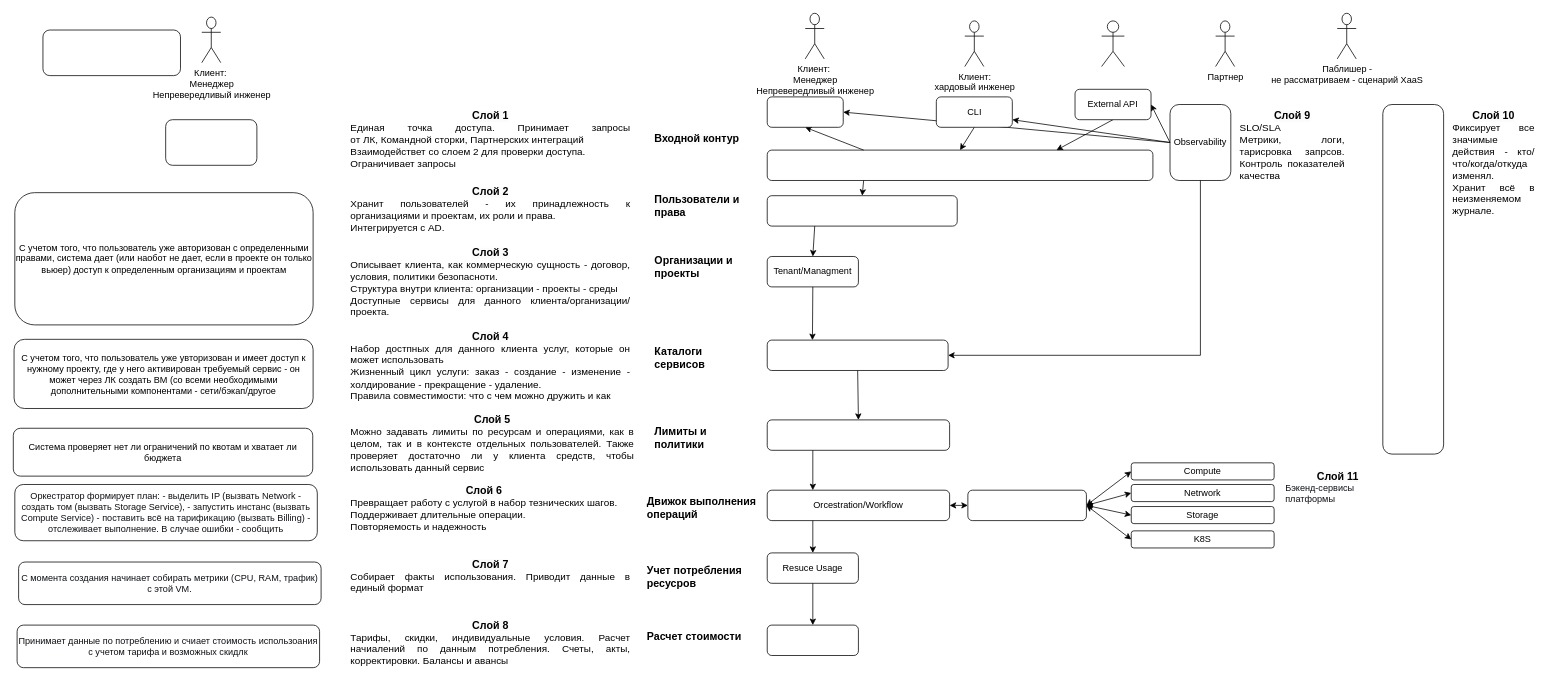
This 1548x681 diagram has some shape labels left out. Each missing label, with the centre of its shape:
"Audit / Compliance" goes at pixel 1413 279.
"Billing" goes at pixel 812 640.
"Inetrnal API Gateway" goes at pixel 1026 505.
"Public API Gateway" goes at pixel 959 164.
"Quota Managment" goes at pixel 858 434.
"Sevice/Lifecycle Managment" goes at pixel 857 354.
"UI" goes at pixel 804 111.
"User Regesrty/Managment" goes at pixel 861 210.
"Заходит в ЛК, чтобы создать VM" goes at pixel 211 142.
"Партнерское приложение" goes at pixel 1112 43.
"Уже авторизован в ЛК в определенной роли, подразумевающей ряд прав" goes at pixel 111 52.
